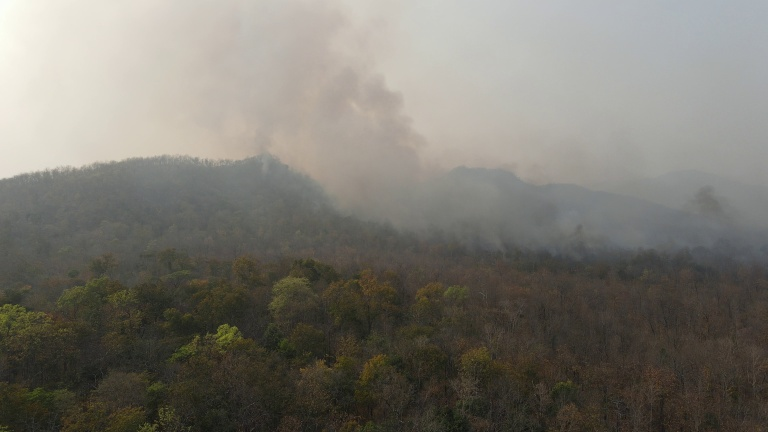smoke: (195, 2, 585, 255), (655, 178, 759, 257), (248, 109, 277, 172)
